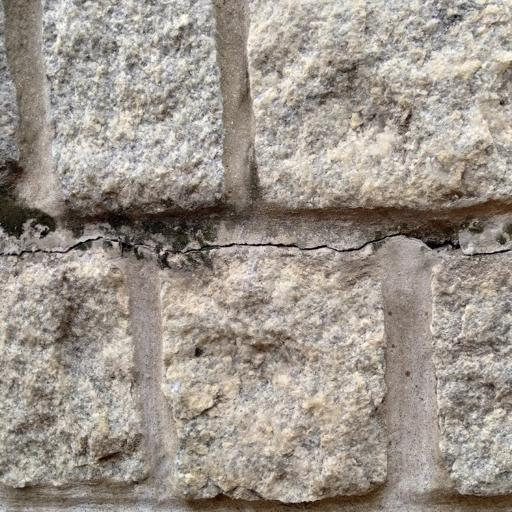minor_crack: (0, 199, 512, 285)
